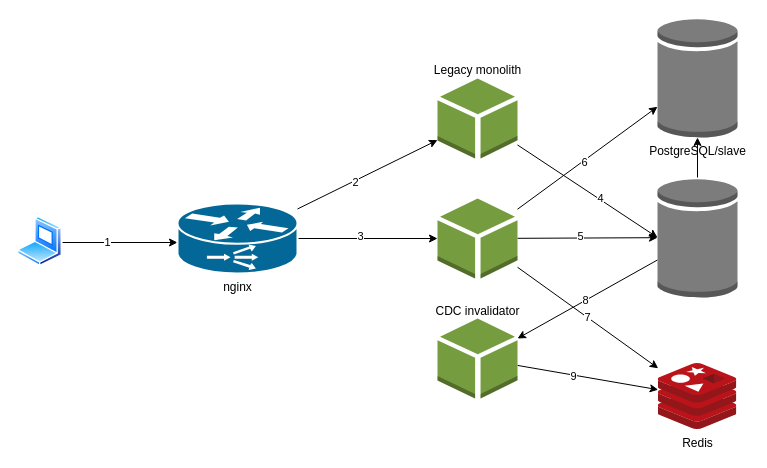
Some shapes in this 767 by 468 pixel diagram are drawn without their labels. The centre of each missing label's shape, as x and y in pixels:
"MSA constructor" goes at (x=477, y=238).
"PostgreSQL/master" goes at (x=697, y=237).
